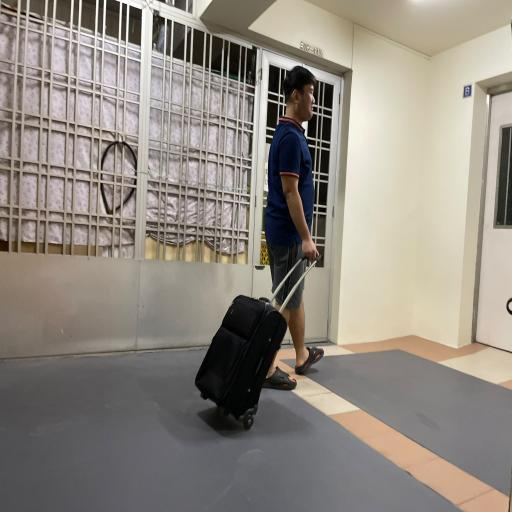person_right: (194, 40, 330, 462)
